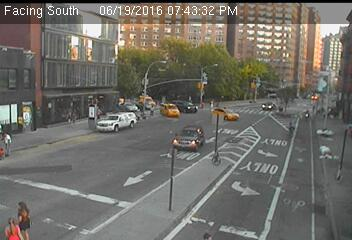neg: (14, 102, 29, 124), (74, 49, 88, 67), (80, 101, 92, 117), (28, 109, 40, 124), (138, 102, 150, 117)
pos: (7, 198, 37, 237), (2, 215, 20, 238)
